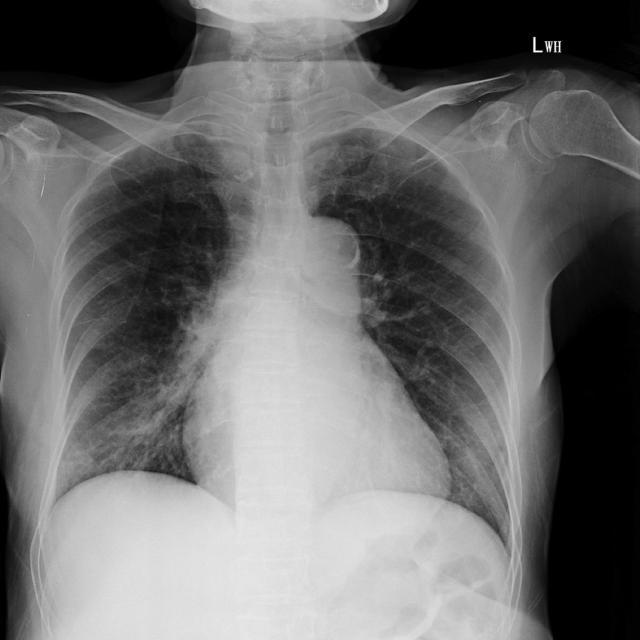abnormalities: (68, 296, 215, 469)
diaphragm: (42, 470, 514, 640)
heart: (180, 217, 453, 548)
left_lobe: (296, 117, 509, 556)
right_lobe: (51, 118, 263, 522)
